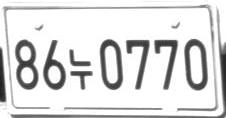0: (98, 38, 124, 91), (183, 37, 208, 91)
6: (42, 39, 66, 90)
7: (125, 39, 150, 90), (153, 39, 178, 90)
8: (13, 38, 39, 90)
누: (68, 48, 94, 91)
